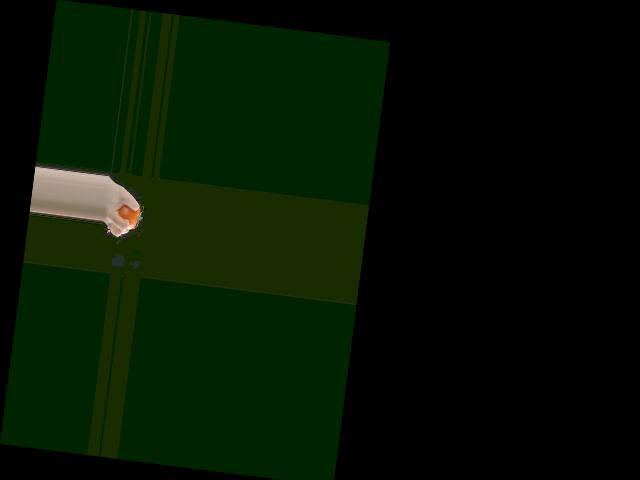tomato: (116, 203, 140, 230)
